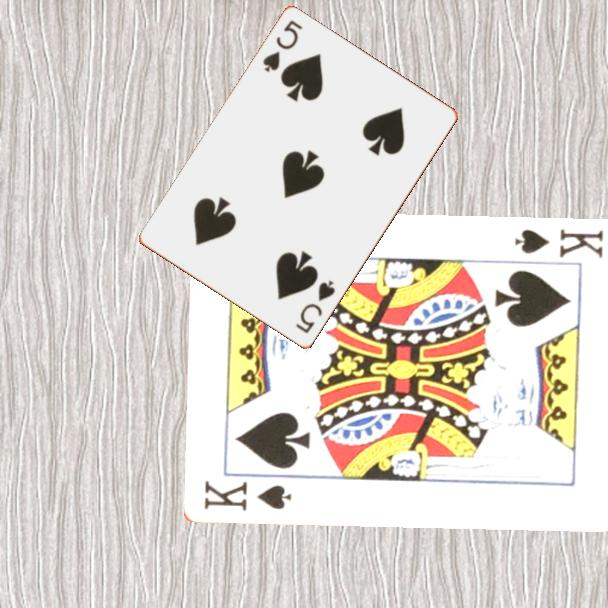s05: (292, 277, 338, 337), (259, 17, 305, 76)
s13: (200, 477, 294, 514), (511, 226, 605, 262)
